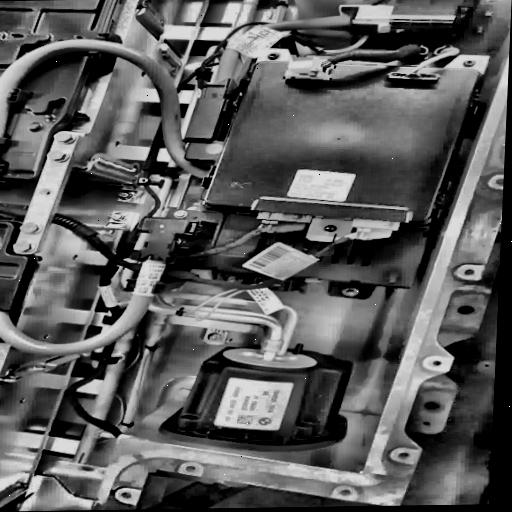high_volt_cable: (0, 35, 211, 180), (0, 217, 194, 361), (180, 6, 354, 159)
low_volt_cable: (122, 13, 338, 263), (153, 221, 396, 329), (92, 315, 176, 448)
nut: (45, 147, 67, 162), (11, 239, 33, 253), (19, 220, 39, 235), (342, 286, 361, 297), (55, 130, 72, 142), (208, 332, 223, 341), (464, 57, 477, 66), (268, 51, 282, 58), (111, 212, 123, 220), (175, 210, 188, 216), (118, 191, 130, 197)
